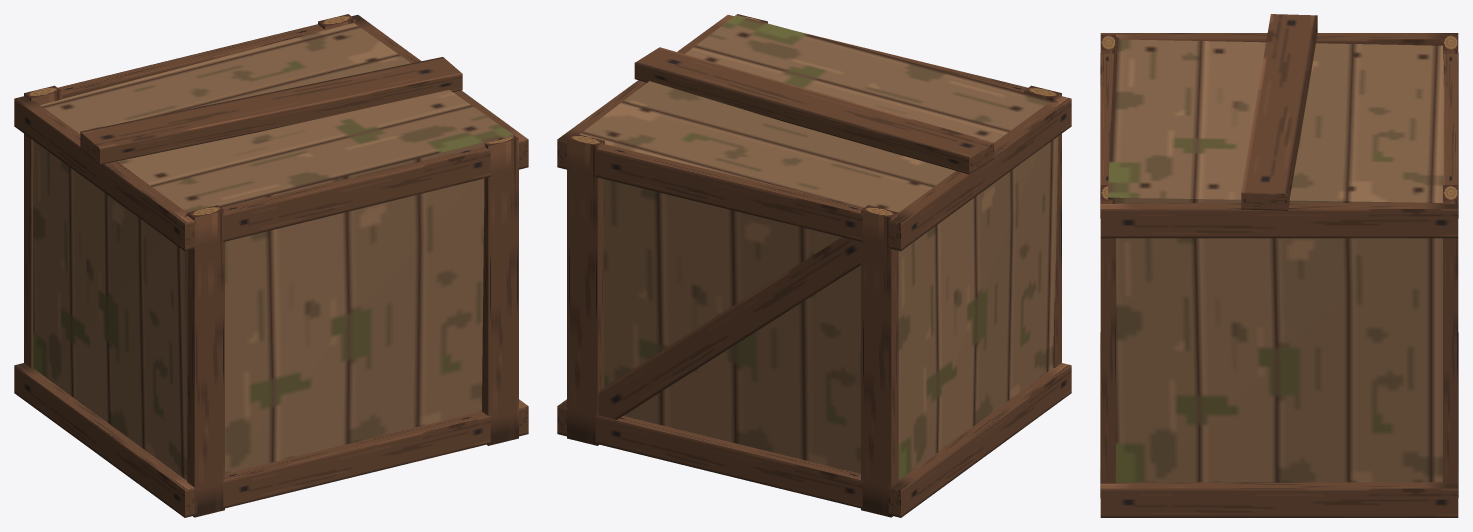
The model's file is SM_PR13_CrateClosed.fbx.
3 renders of one model, left to right at view 1: azimuth 30°, elevation 25°; view 2: azimuth 150°, elevation 25°; view 3: azimuth 270°, elevation 25°, orthographic. The views are drawn at different scales.
Visible parts, largest first — view 1: PR13_Crate; view 2: PR13_Crate; view 3: PR13_Crate.
Part boxes in pixels (x1,y1,x2,y2): PR13_Crate: (14, 14, 528, 517); PR13_Crate: (557, 14, 1071, 517); PR13_Crate: (1100, 14, 1458, 517).
Size of the model in its own units: 0.7238 by 0.616 by 0.61.
